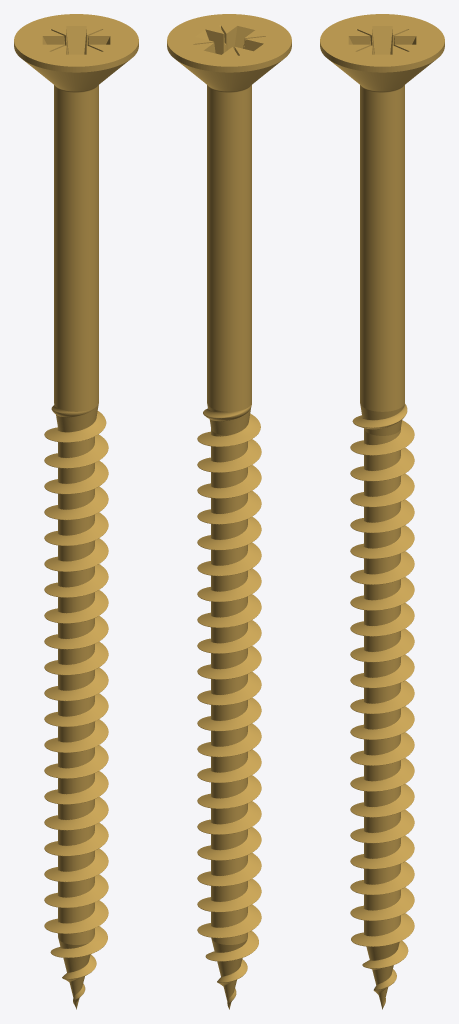
The model's file is model_full.glb.
The picture shows the model from 3 angles, left to right: view 1: azimuth 90°, elevation 25°; view 2: azimuth 150°, elevation 25°; view 3: azimuth 270°, elevation 25°; orthographic projection.
Visible parts, largest first — view 1: geometry_0; view 2: geometry_0; view 3: geometry_0.
Part boxes in pixels (x1=…): geometry_0: x1=14, y1=14, x2=138, y2=1009; geometry_0: x1=167, y1=14, x2=291, y2=1009; geometry_0: x1=320, y1=14, x2=444, y2=1009.
Bounding box in the file's own units: 0.00875 × 0.075 × 0.00875.
